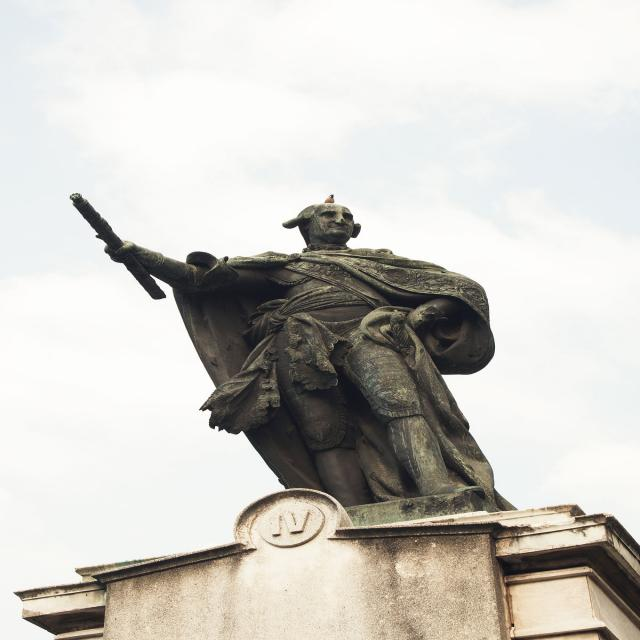King Charles IV Monument: (5, 183, 640, 638)
